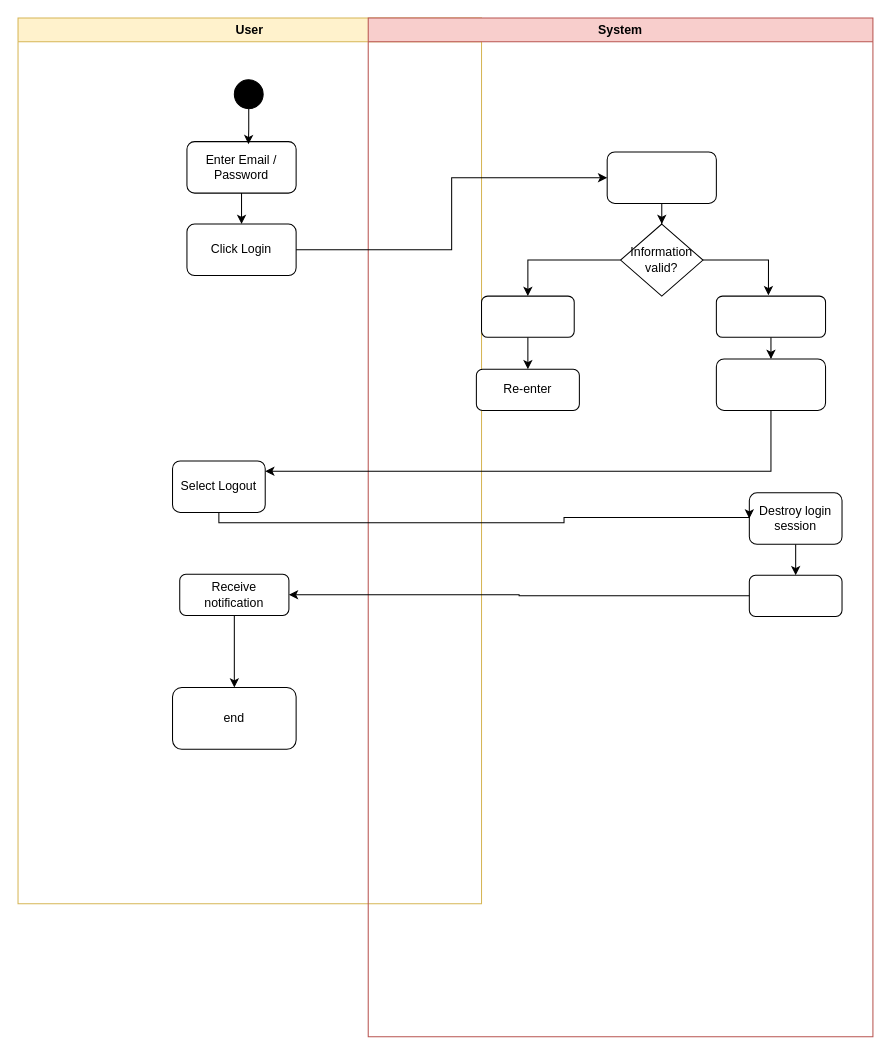
Image size: 891x1055. Some labels were removed from this diagram. The box of each missing label's shape, as (x1, y1, x2, y2) in pixels:
Create login session: (715, 295, 826, 337)
Show error: (480, 295, 574, 337)
Show home page: (715, 358, 826, 410)
Show logout message: (748, 574, 842, 616)
Validate login information: (606, 151, 716, 203)
